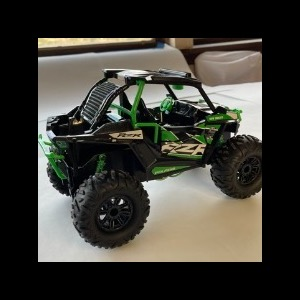polaris: (40, 69, 262, 251)
